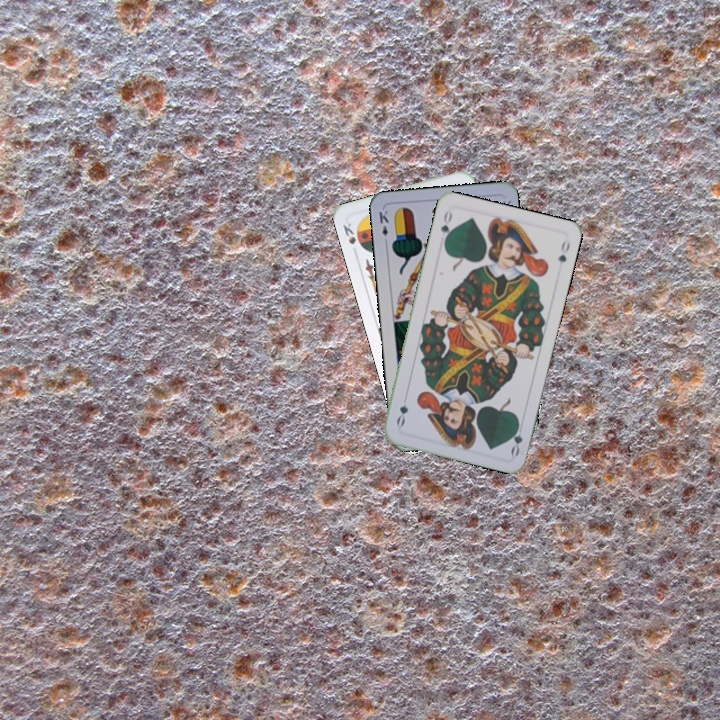EK: (375, 206, 391, 247)
GO: (507, 417, 526, 459), (436, 207, 455, 247)
SK: (339, 219, 358, 247)
